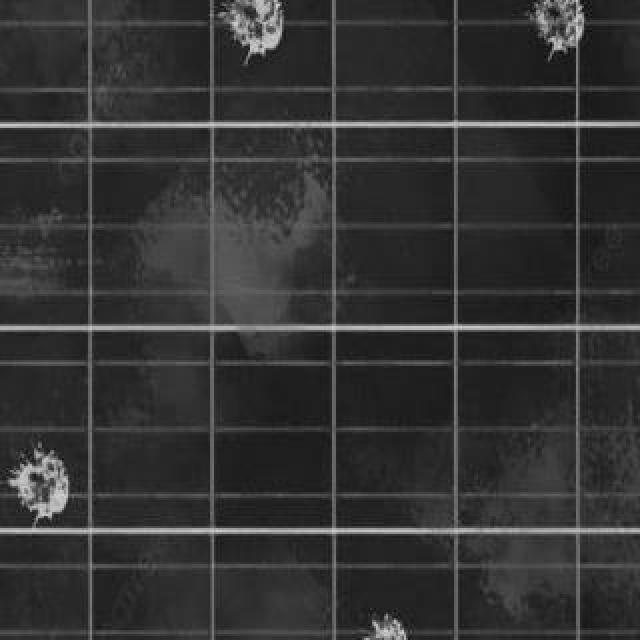Bird-drop: (168, 0, 359, 96), (6, 426, 96, 531), (499, 0, 612, 83), (338, 571, 433, 640)
